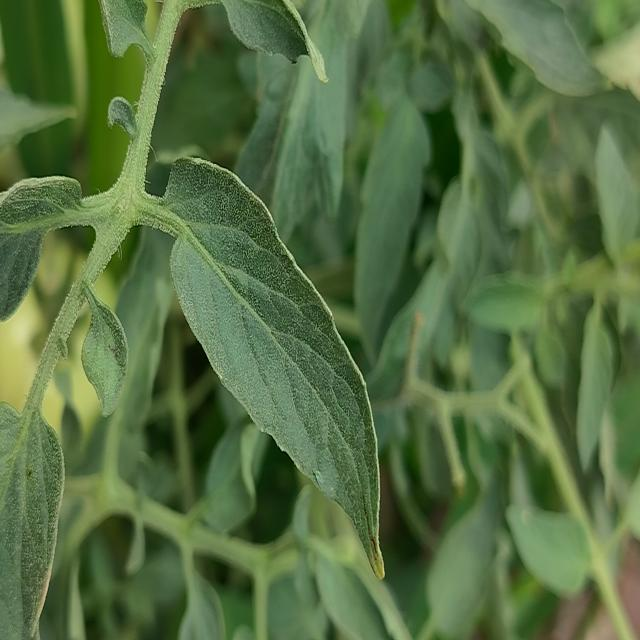tomato_healthy: (160, 157, 384, 576), (0, 403, 64, 639), (0, 175, 81, 320), (576, 295, 623, 467), (593, 111, 635, 273), (80, 283, 128, 416)
